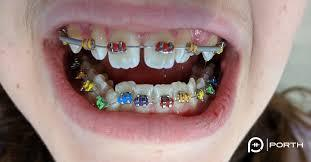Braces: (70, 57, 223, 110), (61, 29, 226, 65)
